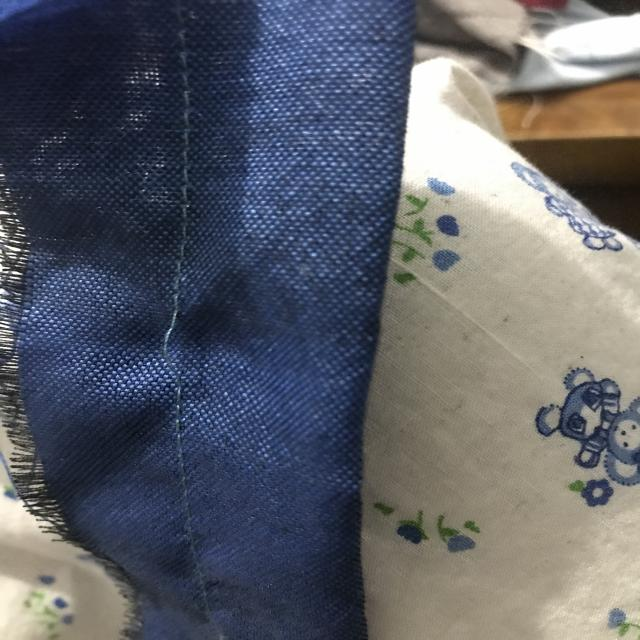good: (161, 153, 207, 243)
skip: (158, 297, 199, 395)
